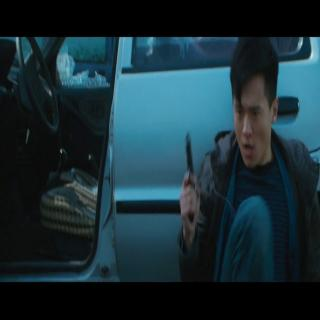gun: (179, 128, 201, 227)
